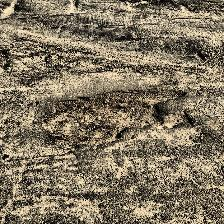pothole: (40, 85, 192, 149)
